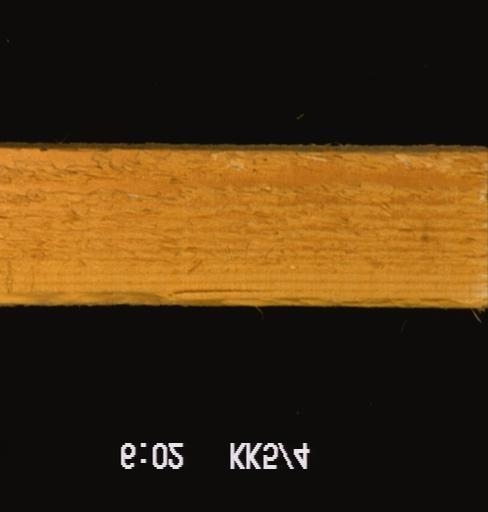wave: (0, 285, 288, 305)
